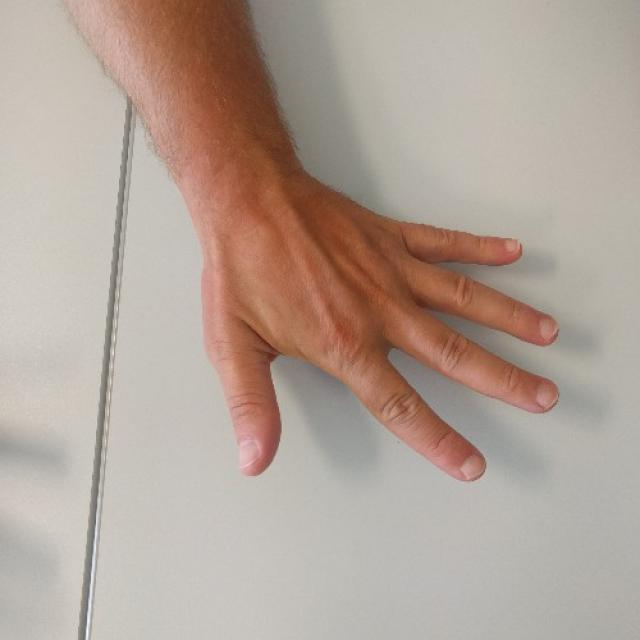paper: (202, 202, 560, 482)
